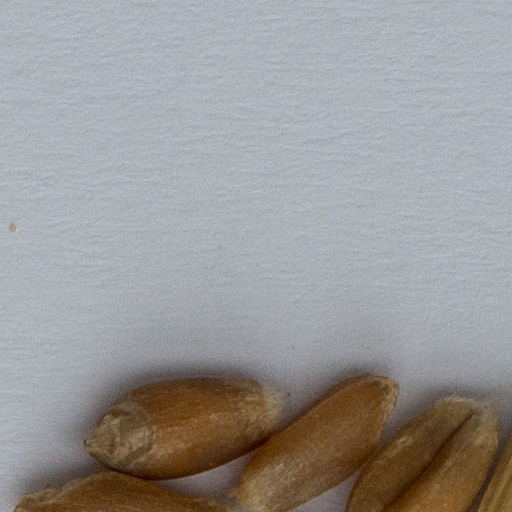Peel-poly: (475, 430, 511, 511)
